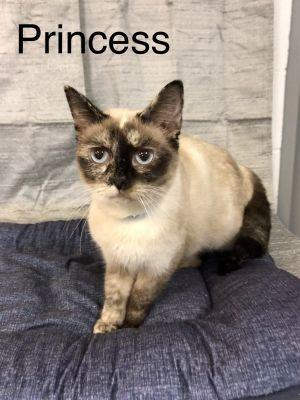siamese: (56, 72, 195, 226)
